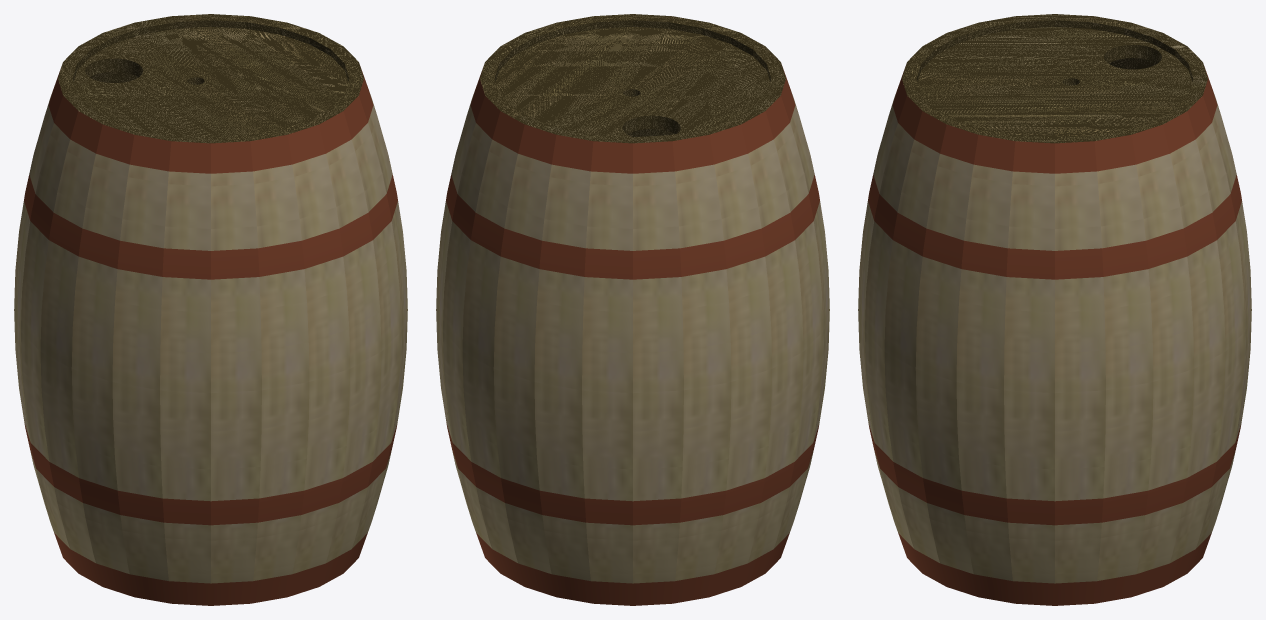
The picture shows the model from 3 angles, left to right: view 1: azimuth 30°, elevation 25°; view 2: azimuth 150°, elevation 25°; view 3: azimuth 270°, elevation 25°; orthographic projection.
Visible parts, largest first — view 1: SketchUp (×10); view 2: SketchUp (×10); view 3: SketchUp (×10).
Boxes of the visible parts, x1,y1,x2,y2 form: SketchUp (×10): (14, 14, 407, 605); SketchUp (×10): (436, 14, 829, 605); SketchUp (×10): (858, 14, 1251, 605).
Size of the model in its own units: 27 by 27 by 35.
Materials: 4 (1 with a texture image).
